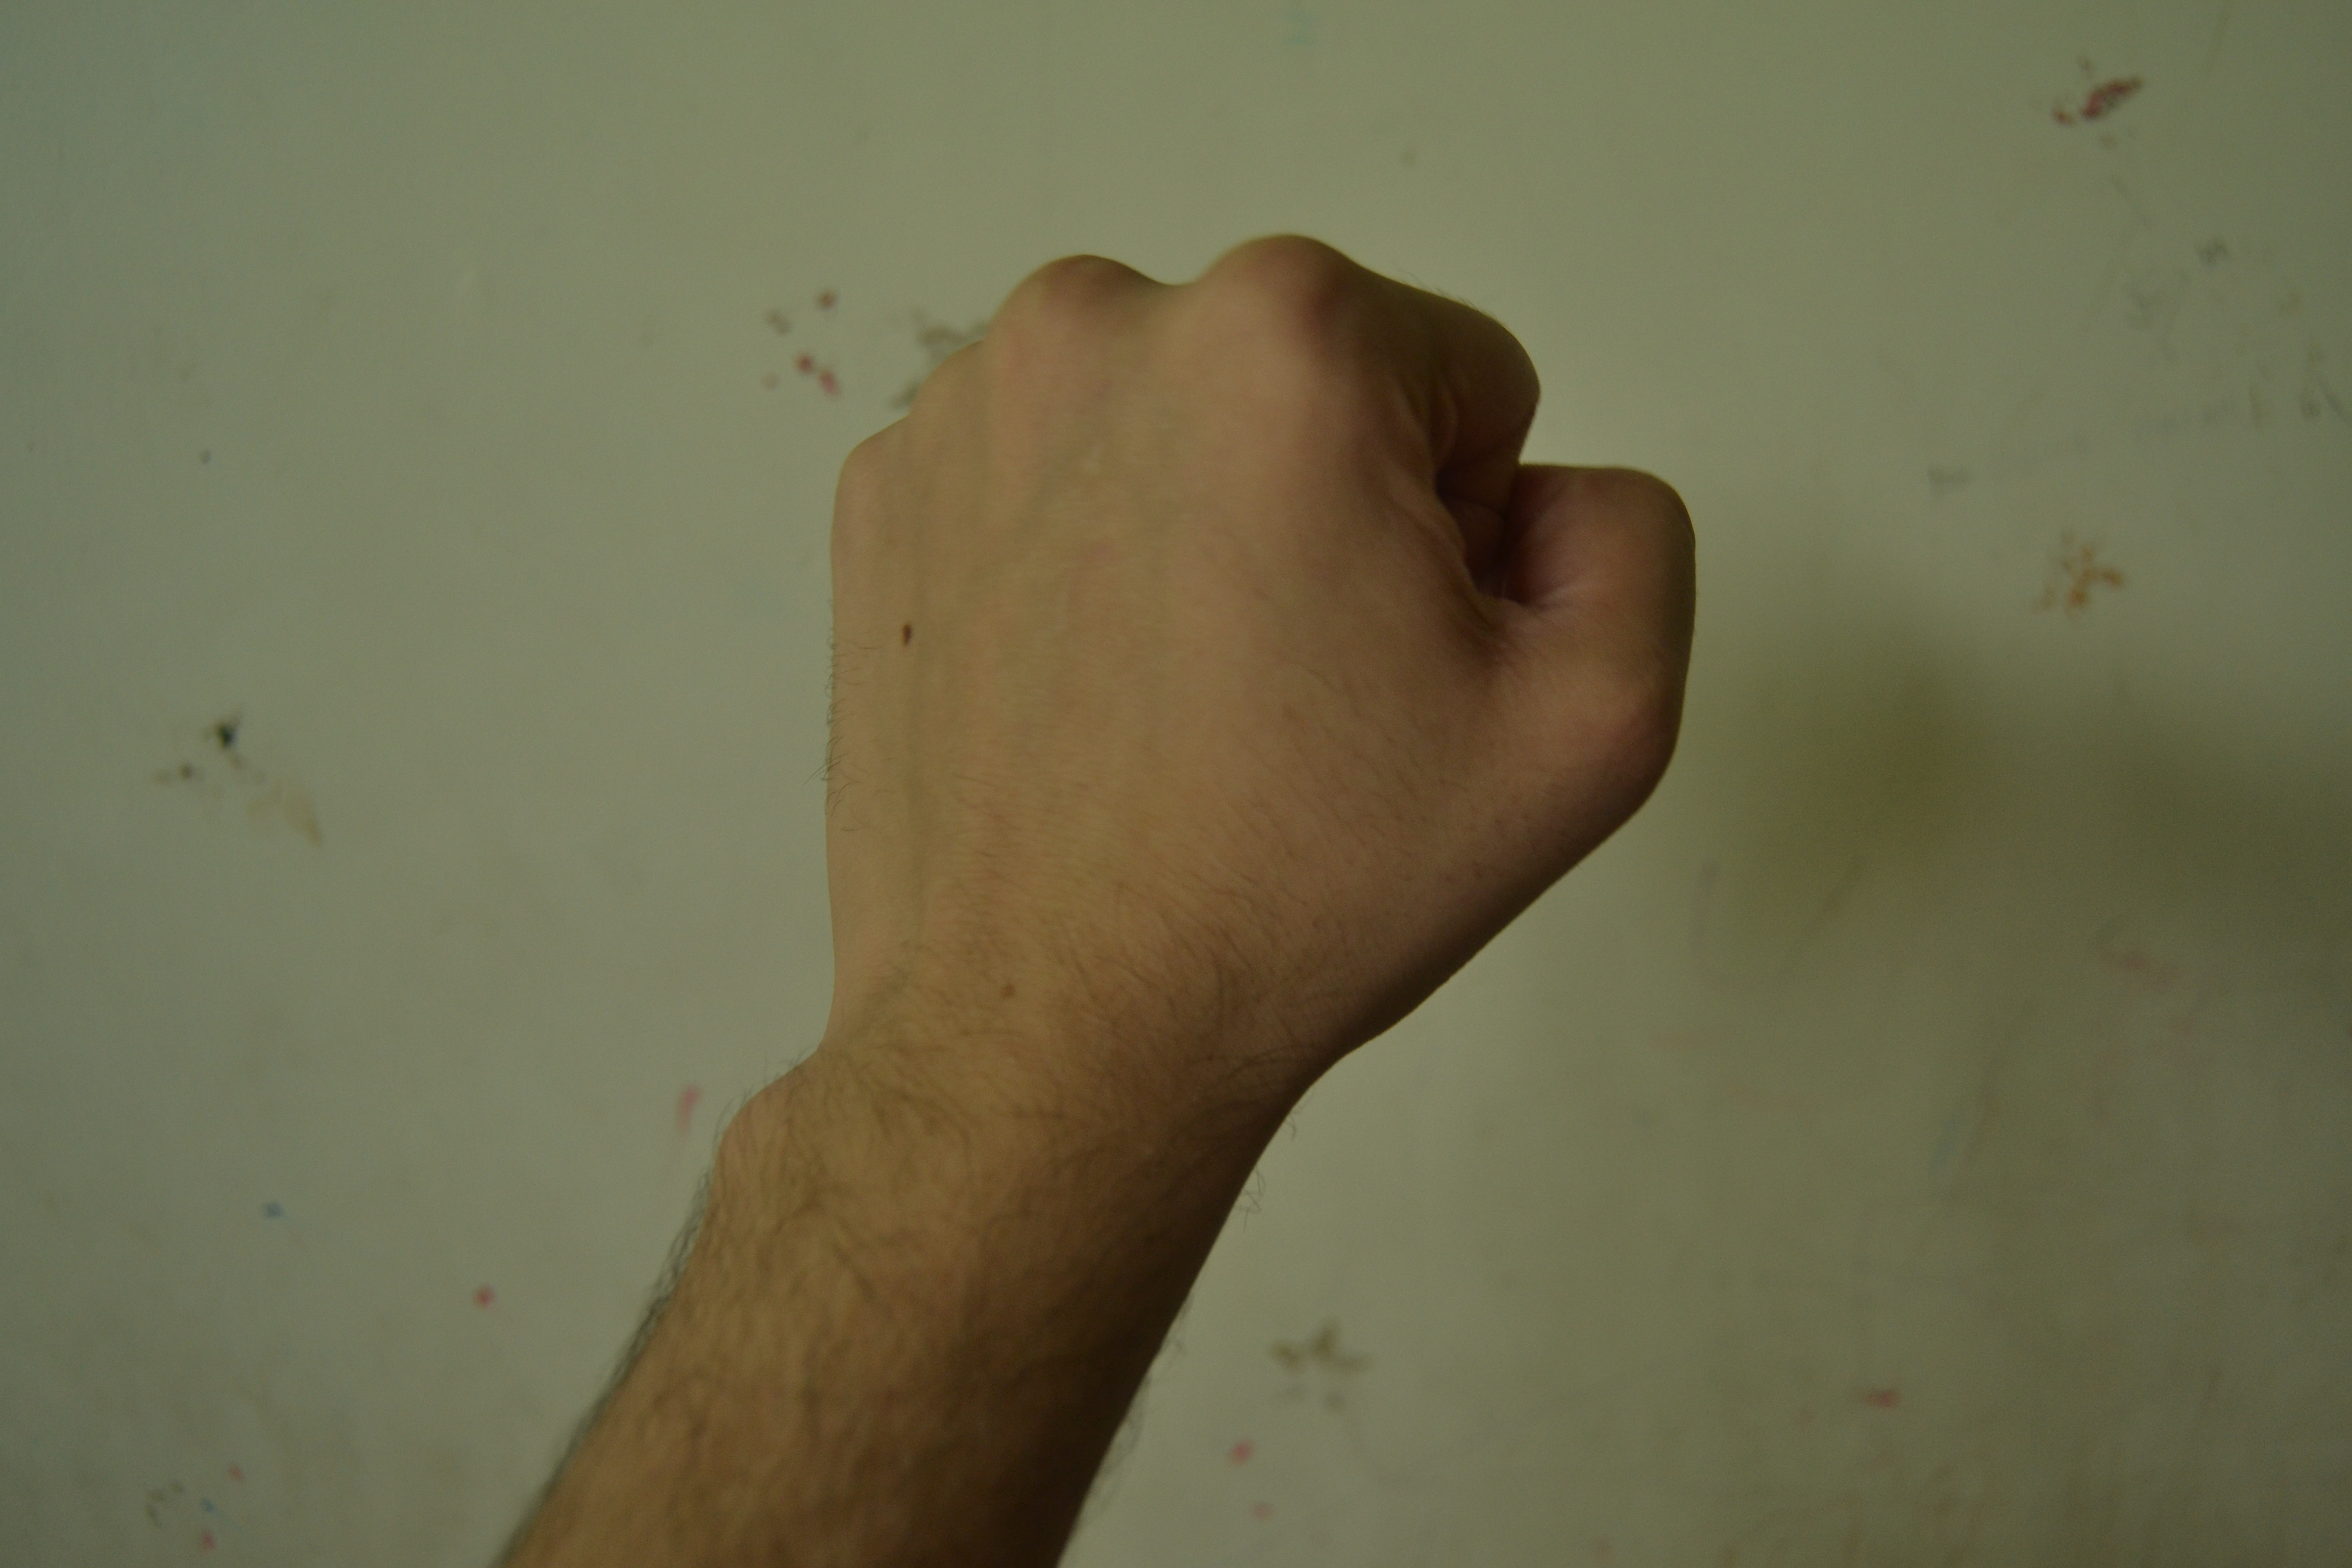click: (726, 192, 1799, 1431)
